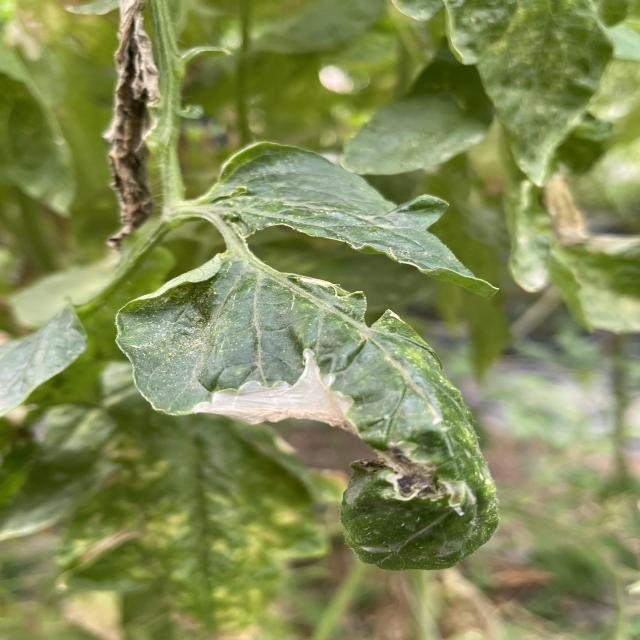Tuta absoluta: (192, 339, 363, 433), (357, 426, 460, 525)
